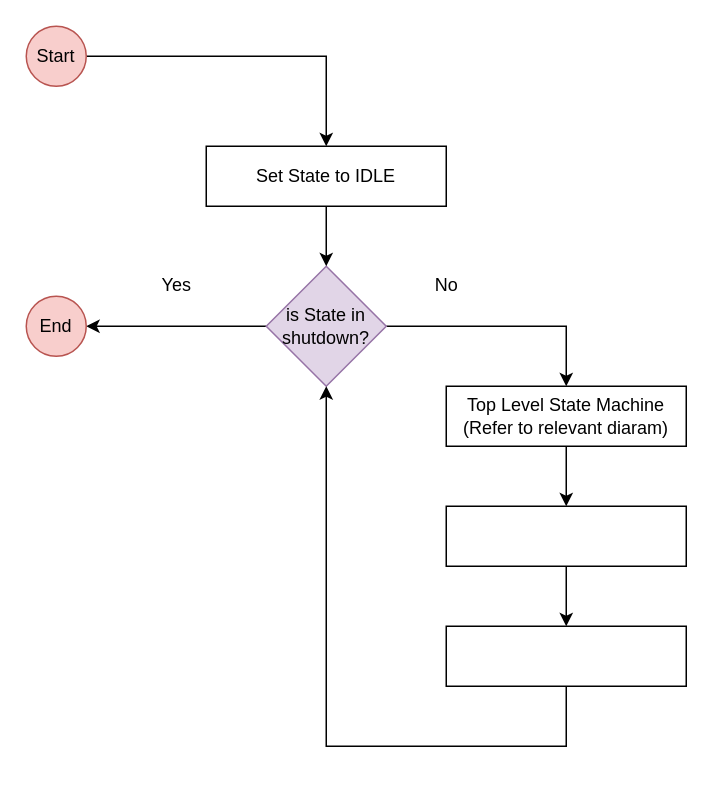
Image size: 713x785. Some labels were removed from this diagram. The centre of each missing label's shape, as x and y in pixels:
"Check termination conditions" goes at (565,535).
"Watchdog timer algorithm" goes at (565,655).
